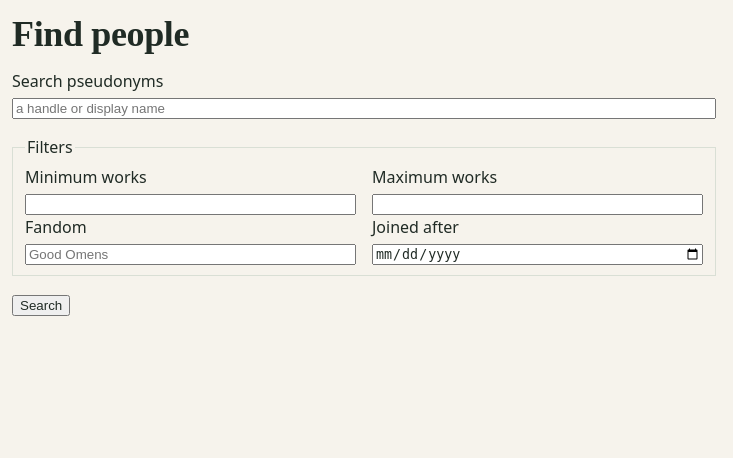
it: UserSearch › sends what the reader typed
Type "nightowl" into the search field labelled "Search pseudonyms".
click(364, 108); type("nightowl")  # box left=12, top=98, right=716, bottom=119
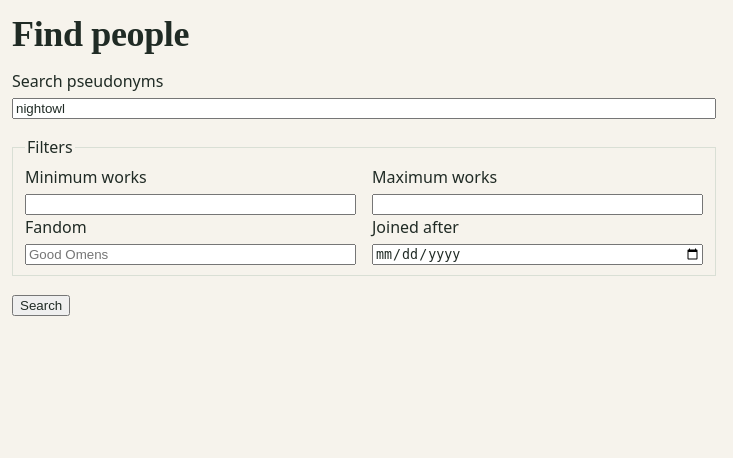
Click the button "Search".
click(41, 306)  # box left=12, top=295, right=70, bottom=316
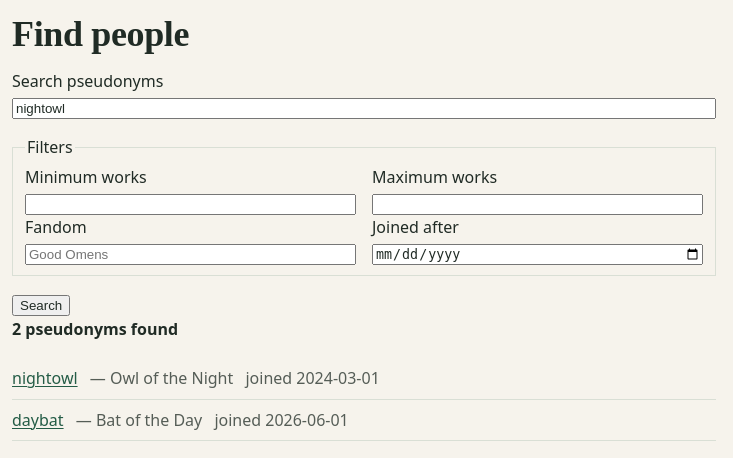
Result: the link "nightowl" is shown at left=12, top=367, right=78, bottom=389
